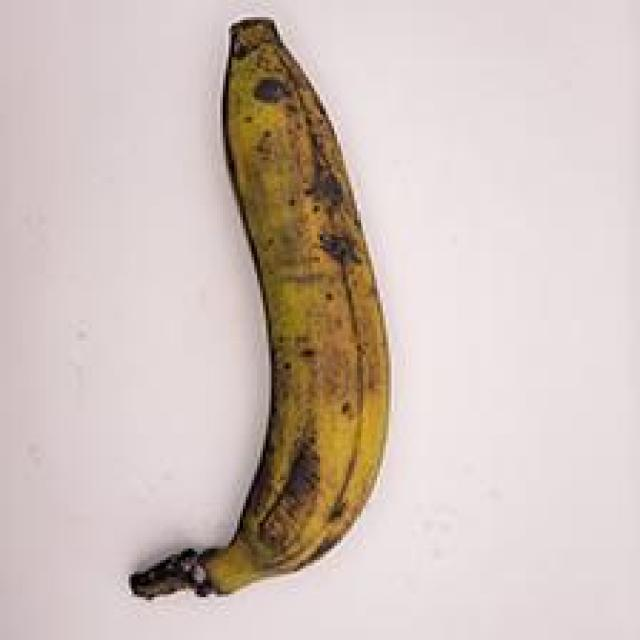Overripe: (83, 4, 455, 615)
